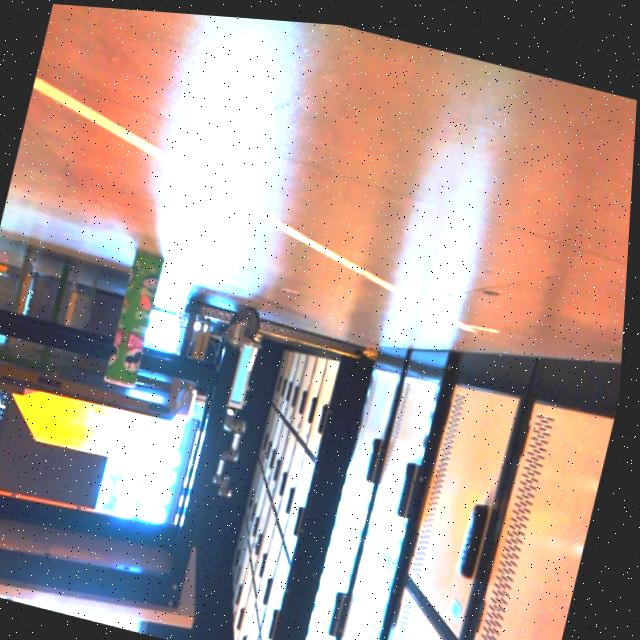greenpringles: (79, 219, 187, 411)
